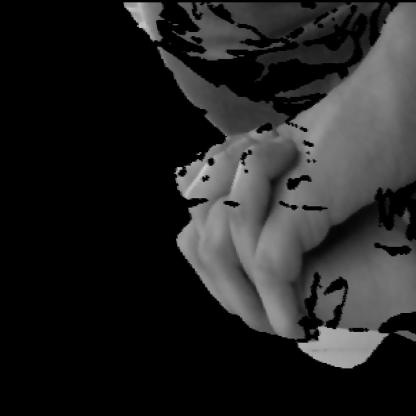prayer: (141, 96, 415, 361)
